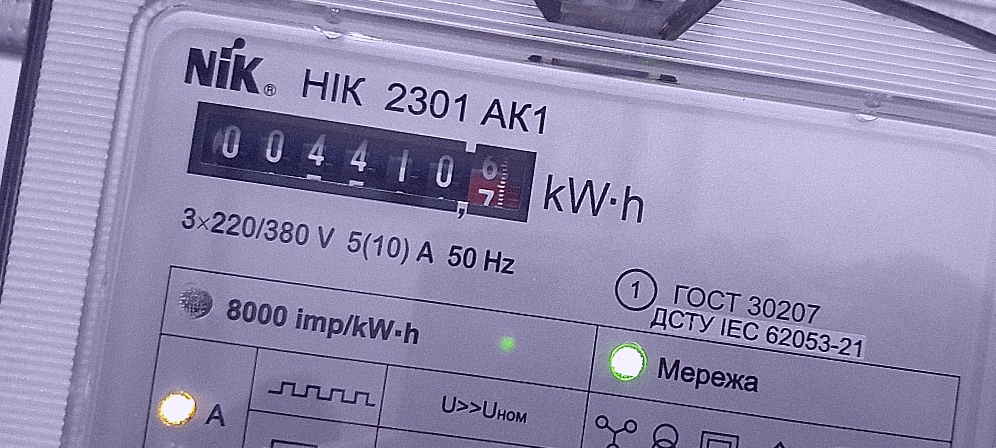0: (217, 120, 243, 161), (432, 151, 456, 190), (262, 125, 285, 165)
1: (392, 146, 411, 184)
4: (303, 127, 330, 168), (345, 135, 372, 176)
6: (480, 153, 501, 181)
7: (474, 186, 495, 207)
screen: (173, 87, 551, 236)
